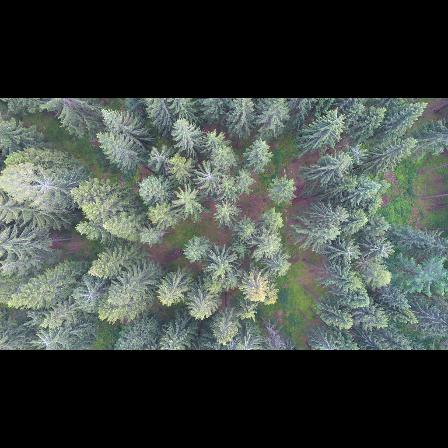Sick: (192, 158, 224, 191)
